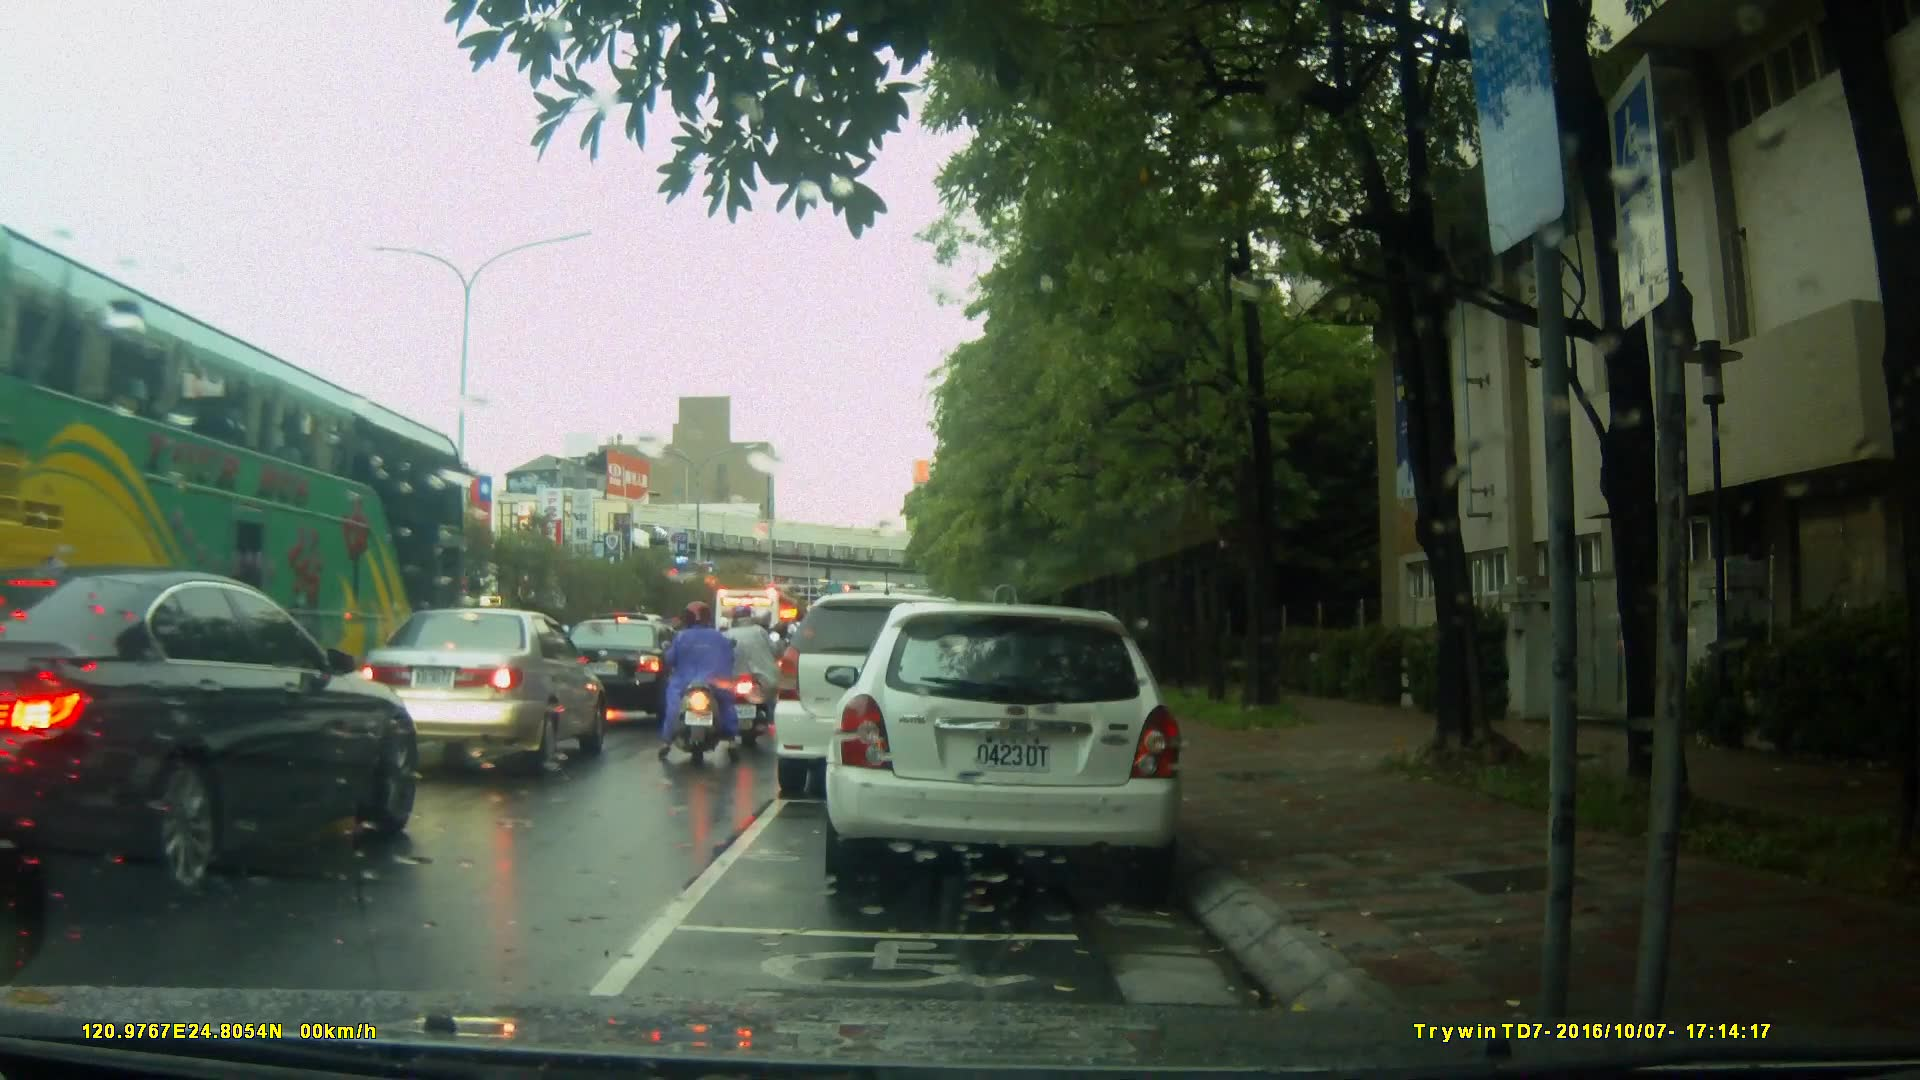rider: (661, 601, 731, 768), (727, 600, 785, 736)
vehicle: (1, 250, 490, 678), (8, 570, 412, 912), (831, 592, 1196, 897), (770, 592, 999, 798), (356, 607, 612, 777), (551, 618, 682, 731), (714, 584, 803, 706)
